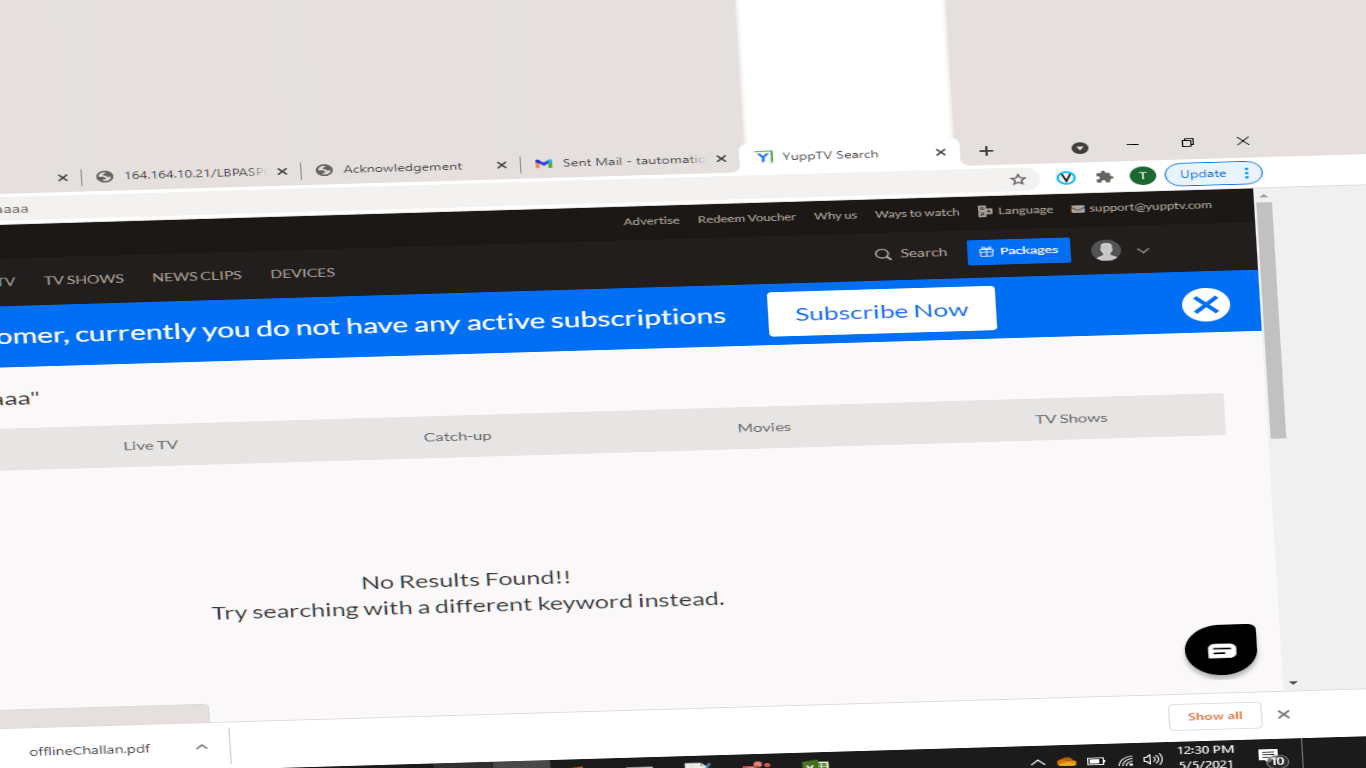noresultsfound: (189, 551, 759, 635)
profileicon: (1083, 233, 1155, 274)
searchicon: (867, 237, 896, 271)
searchtextbox: (871, 237, 959, 268)
